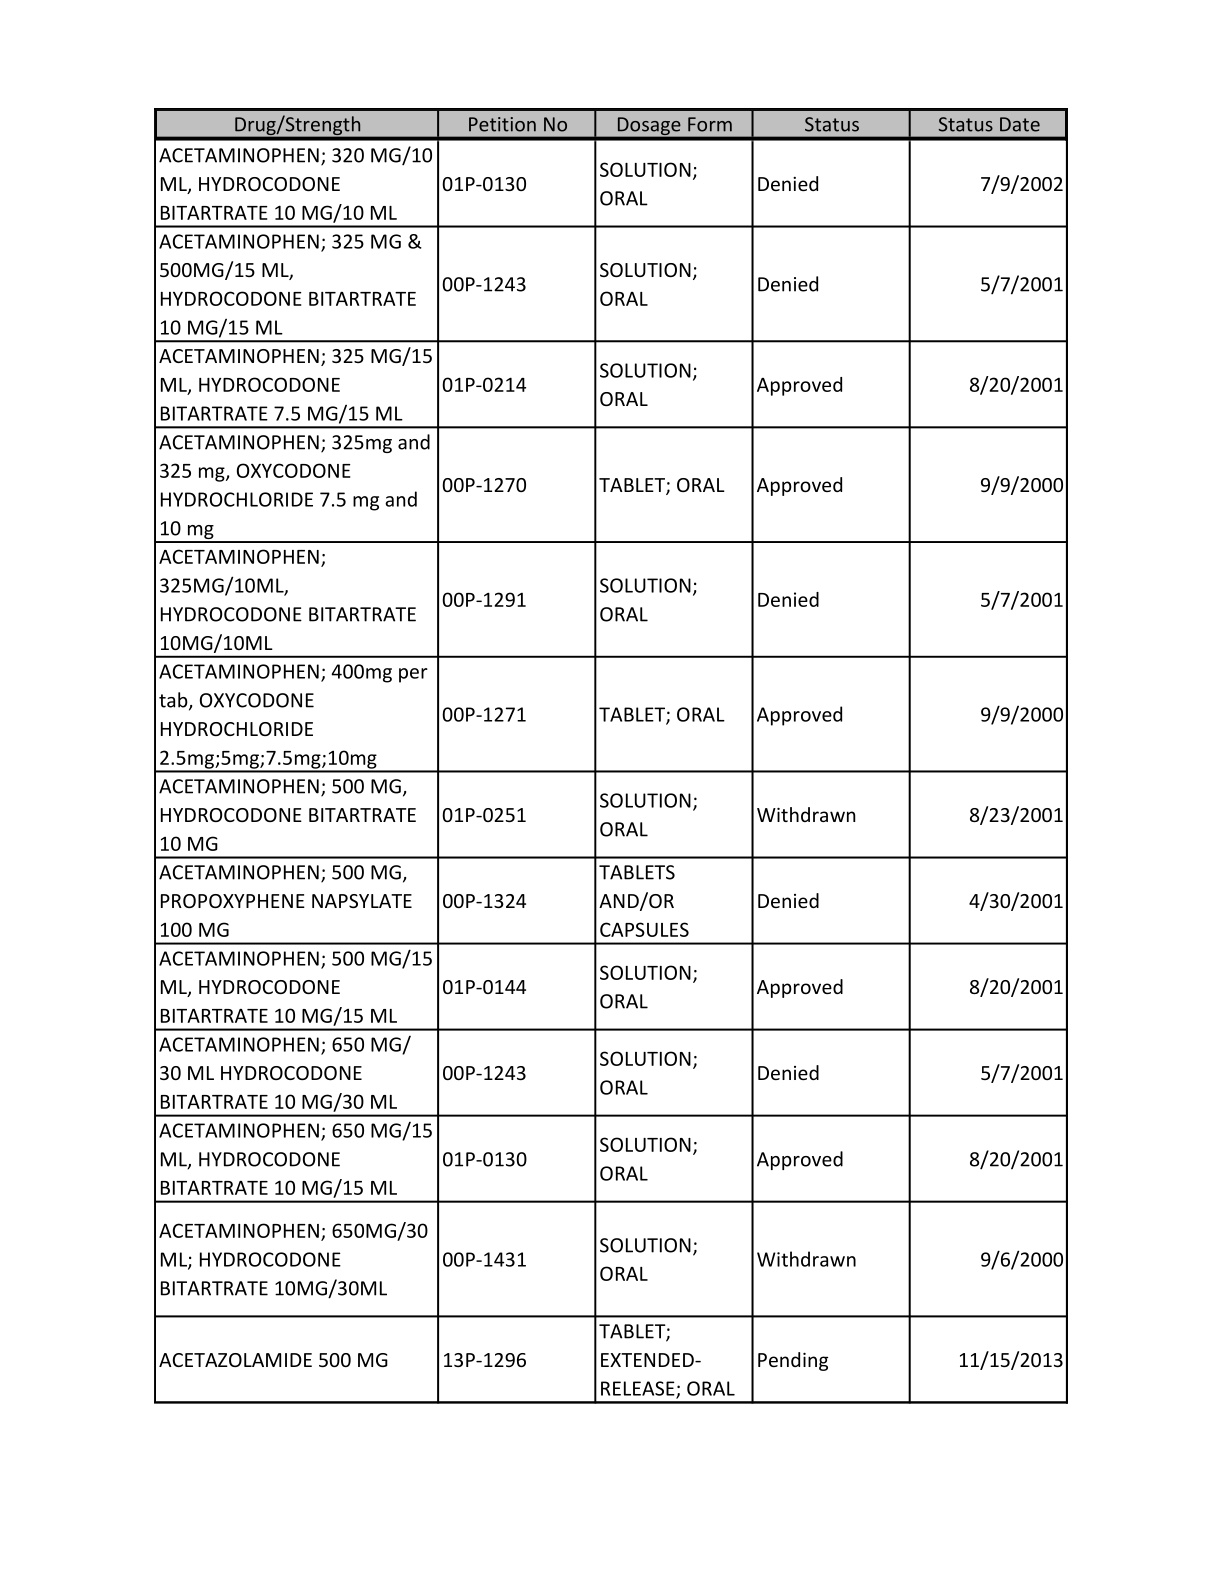full_lined: (153, 108, 1068, 1404)
